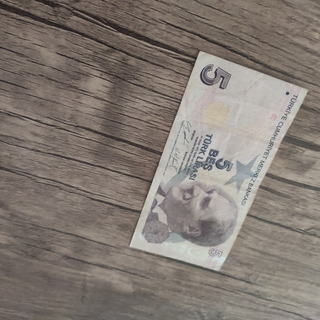5TLFront: (129, 50, 309, 273)
